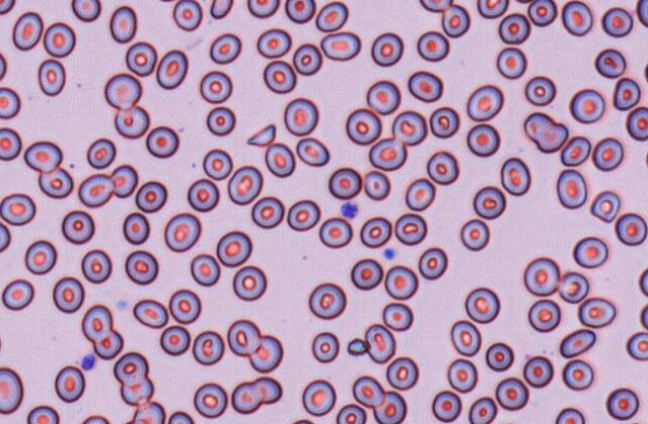PLT: (340, 201, 359, 219), (80, 352, 95, 370), (382, 247, 396, 260)
RBC: (523, 111, 568, 153), (163, 212, 201, 252), (103, 72, 142, 110), (523, 256, 560, 296), (308, 282, 346, 319), (227, 165, 262, 205), (466, 84, 503, 121), (345, 107, 381, 145), (248, 334, 283, 373), (283, 97, 318, 136), (216, 230, 252, 267), (464, 286, 500, 323), (226, 318, 261, 356), (301, 378, 336, 416), (368, 137, 407, 171), (391, 109, 427, 145), (23, 140, 62, 173), (156, 49, 188, 89), (556, 168, 587, 209), (569, 88, 605, 123), (577, 296, 616, 328), (364, 323, 395, 363), (193, 382, 227, 418), (78, 173, 114, 207), (232, 265, 266, 301), (124, 249, 158, 285), (81, 304, 113, 342), (12, 11, 43, 50), (320, 31, 360, 61), (113, 351, 148, 385), (494, 376, 529, 410), (366, 79, 400, 114), (168, 288, 201, 324), (0, 192, 36, 225), (43, 21, 76, 57), (52, 276, 84, 313), (54, 365, 85, 403), (500, 156, 530, 195), (384, 265, 418, 299), (466, 123, 500, 157), (372, 390, 407, 423), (114, 105, 149, 138), (370, 31, 403, 66), (24, 239, 57, 274), (426, 150, 459, 185), (572, 236, 608, 268), (561, 0, 593, 36), (450, 319, 481, 356), (230, 381, 264, 414), (262, 60, 296, 93), (385, 356, 418, 390), (145, 125, 179, 158), (605, 387, 639, 420), (61, 210, 94, 244), (527, 298, 560, 332), (472, 185, 505, 219), (192, 330, 224, 365), (407, 70, 442, 102), (592, 136, 624, 171), (559, 328, 596, 358), (0, 366, 23, 414), (351, 375, 384, 408), (614, 212, 647, 245), (251, 195, 284, 228), (394, 212, 427, 245), (199, 70, 232, 103), (328, 166, 361, 199), (187, 178, 219, 212), (318, 216, 352, 248), (286, 199, 320, 231), (38, 167, 73, 198), (264, 142, 295, 177), (125, 41, 156, 76), (256, 27, 291, 58), (81, 248, 112, 283), (132, 298, 168, 328), (109, 5, 137, 43), (37, 58, 65, 96), (315, 0, 348, 32), (135, 180, 167, 213), (1, 278, 34, 310), (350, 258, 383, 290), (404, 177, 435, 211), (447, 358, 477, 393), (498, 12, 530, 44), (209, 32, 241, 64), (359, 216, 391, 248), (558, 270, 589, 303), (189, 253, 220, 286), (522, 355, 553, 388), (416, 30, 449, 61), (524, 75, 556, 106), (601, 6, 633, 37), (292, 42, 322, 75), (459, 218, 489, 251), (496, 46, 526, 79), (120, 377, 154, 406), (295, 137, 329, 166), (441, 3, 470, 37), (560, 135, 591, 166), (562, 359, 593, 390), (202, 148, 232, 180), (431, 390, 461, 422), (86, 137, 116, 169), (429, 106, 459, 138), (594, 48, 626, 78), (418, 246, 447, 279), (612, 77, 641, 110), (159, 325, 190, 355), (172, 0, 202, 31), (110, 164, 138, 197), (122, 211, 150, 244), (93, 329, 123, 359), (382, 302, 413, 331), (311, 331, 339, 363), (206, 106, 235, 136), (484, 341, 513, 371), (363, 169, 390, 200), (128, 401, 165, 423), (253, 376, 282, 404), (468, 396, 497, 423), (527, 0, 557, 26), (626, 106, 647, 141), (0, 126, 21, 160), (284, 0, 315, 23), (0, 86, 20, 119), (626, 331, 647, 361), (71, 0, 101, 21), (335, 403, 366, 423), (26, 405, 59, 423), (476, 0, 508, 18), (247, 0, 279, 18), (554, 407, 585, 423), (209, 0, 233, 19), (419, 0, 452, 12), (167, 410, 194, 423), (0, 221, 10, 252), (636, 0, 647, 27), (638, 267, 647, 296), (81, 414, 110, 423), (0, 0, 15, 14), (0, 51, 7, 80), (640, 303, 647, 330), (291, 418, 314, 423), (643, 61, 648, 83), (514, 0, 533, 3)
Schistocyte: (590, 190, 621, 223), (245, 123, 276, 148)
